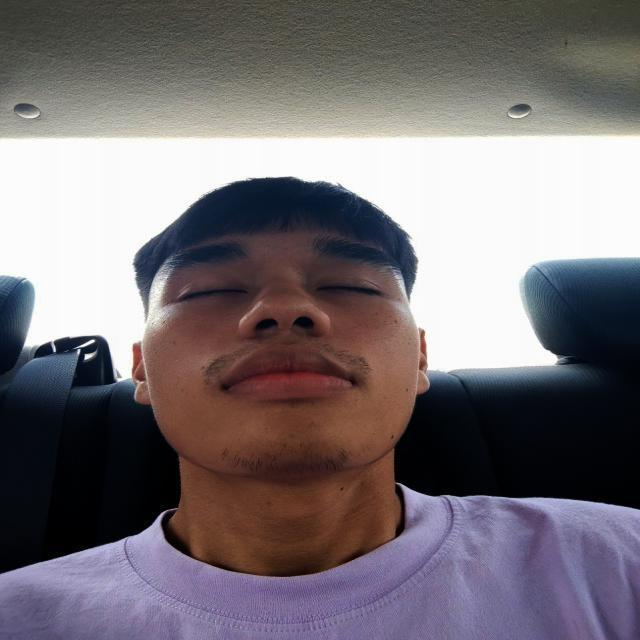sleepy: (165, 238, 402, 475)
